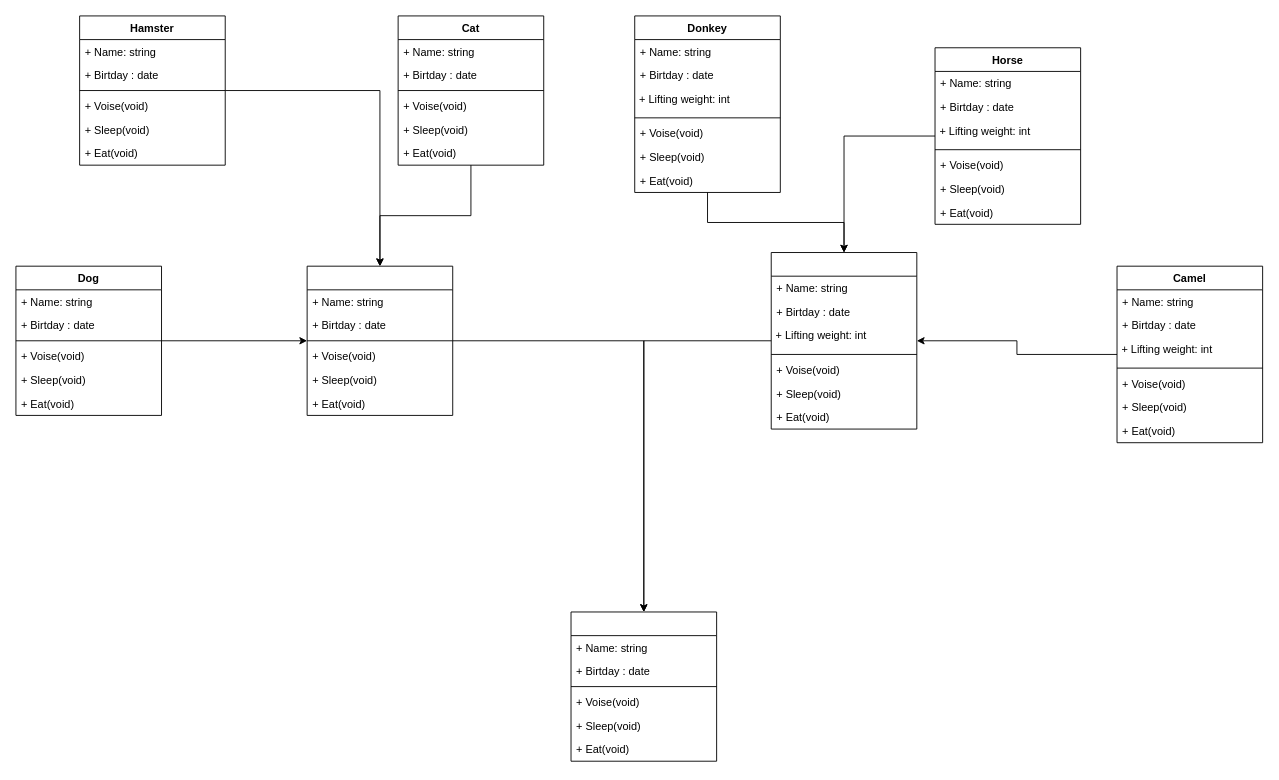
This 1279x780 diagram has some shape labels left out. The shapes that lost their labels are listed below. From the top down, each one's box as (x1, y1, x2, y2) in pixels, then its label:
(306, 265, 453, 415): Pet
(770, 252, 917, 429): Pack Animal
(570, 611, 717, 761): Human Friend
